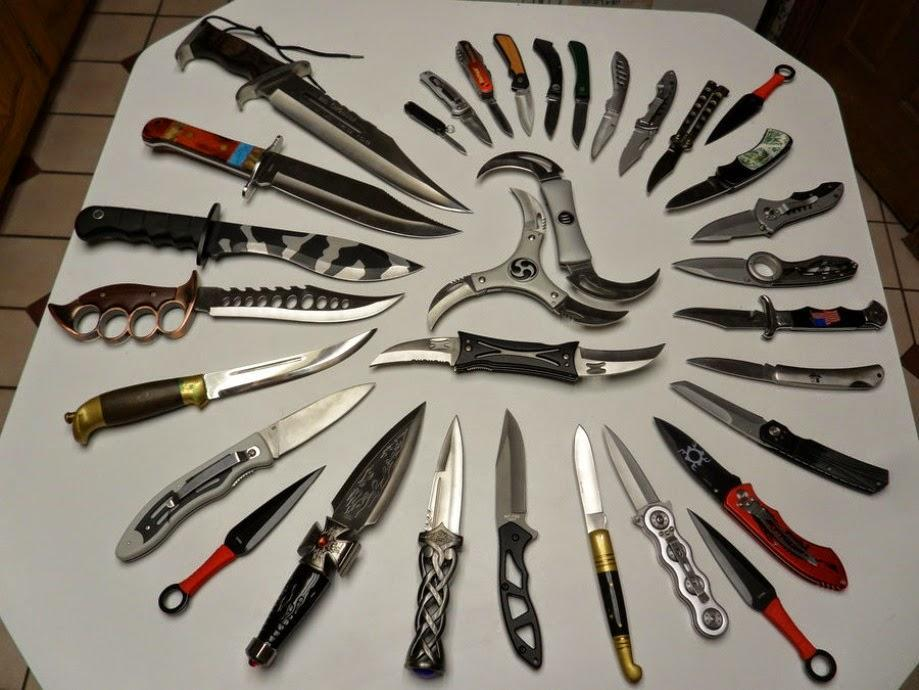faca: (176, 18, 467, 211), (248, 404, 425, 664), (116, 384, 374, 561), (142, 117, 458, 237), (65, 330, 374, 445), (655, 418, 847, 591), (75, 205, 420, 281), (604, 426, 727, 638), (47, 271, 402, 342), (689, 509, 836, 680), (671, 381, 888, 494), (159, 467, 324, 613), (573, 425, 642, 683), (405, 417, 463, 677), (496, 411, 542, 669), (666, 130, 791, 211), (675, 295, 887, 340), (693, 182, 843, 242), (648, 82, 727, 192), (675, 251, 857, 287), (706, 67, 792, 143), (687, 357, 884, 389), (619, 71, 676, 174), (457, 41, 512, 136), (421, 71, 490, 144), (493, 34, 533, 136), (591, 53, 629, 160), (566, 261, 659, 302), (428, 273, 492, 329), (404, 103, 464, 153), (574, 345, 664, 378), (533, 40, 562, 137), (478, 151, 561, 183), (372, 337, 459, 367), (511, 188, 545, 258), (552, 295, 627, 326), (568, 42, 589, 145)
